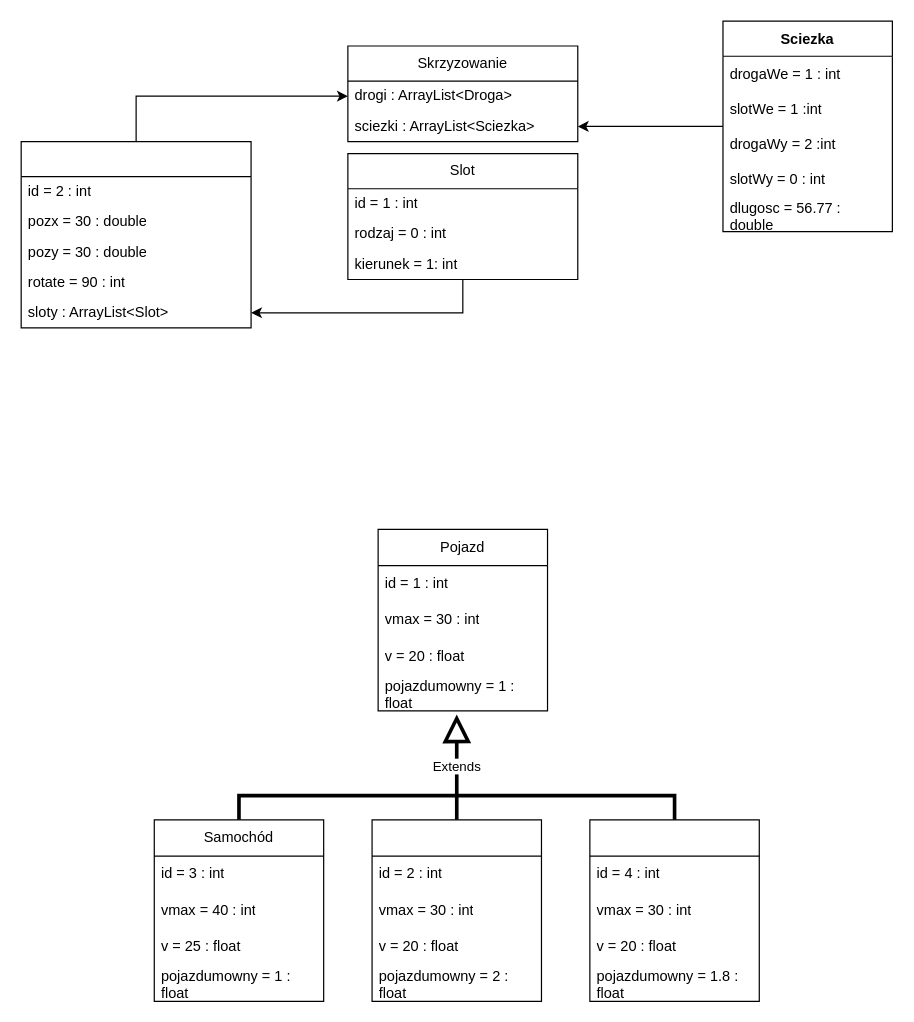
This 914x1022 diagram has some shape labels left out. Each missing label, with the box of its shape:
Autobus: (371, 819, 541, 1001)
Ciężarówka: (589, 819, 759, 1001)
Droga: (20, 140, 251, 328)
